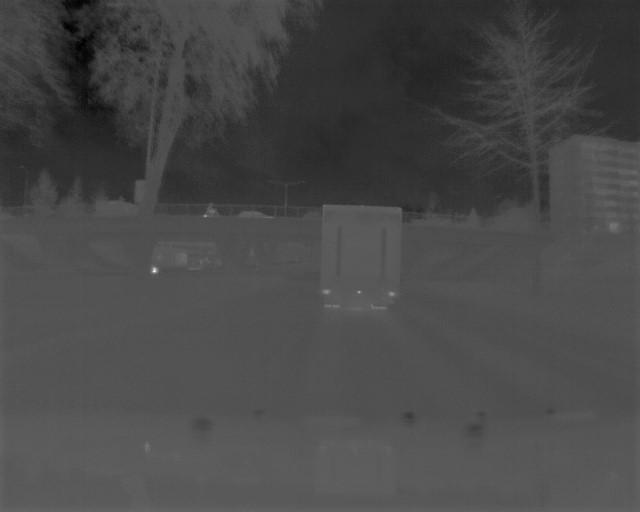person: (206, 197, 216, 218)
